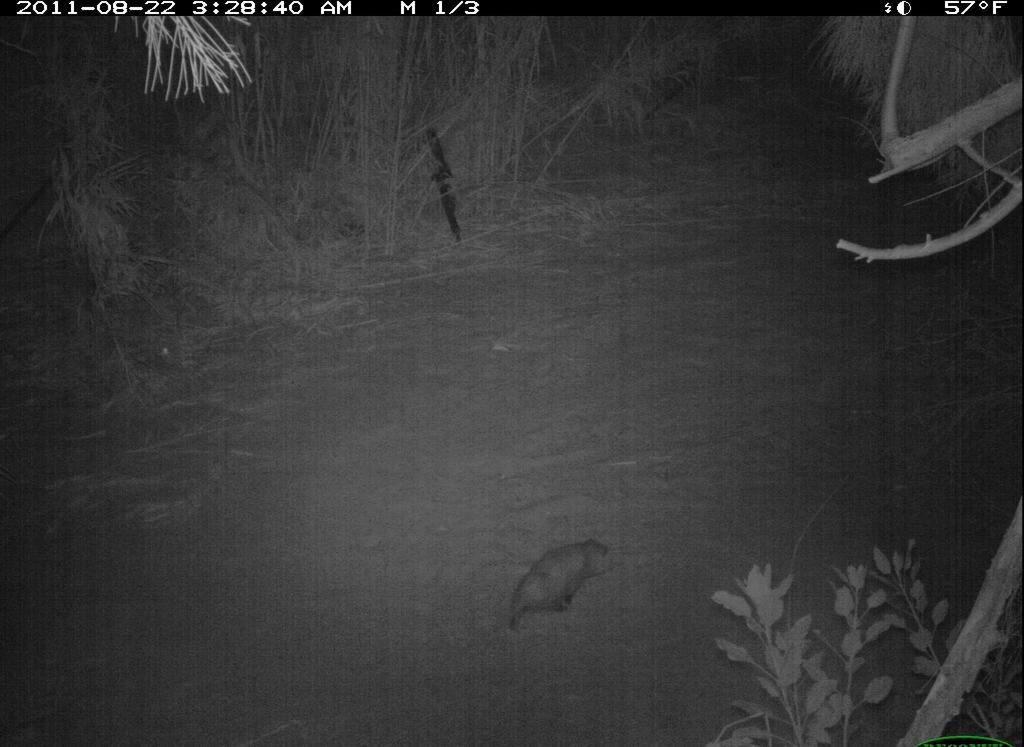opossum: (495, 528, 622, 642)
